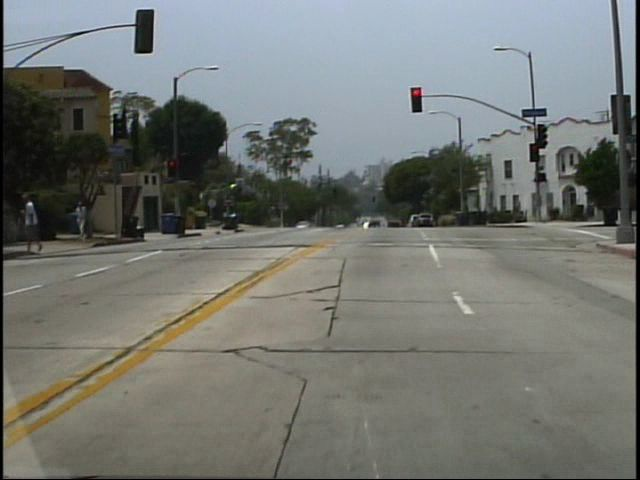person: (22, 191, 52, 254), (78, 201, 92, 242)
